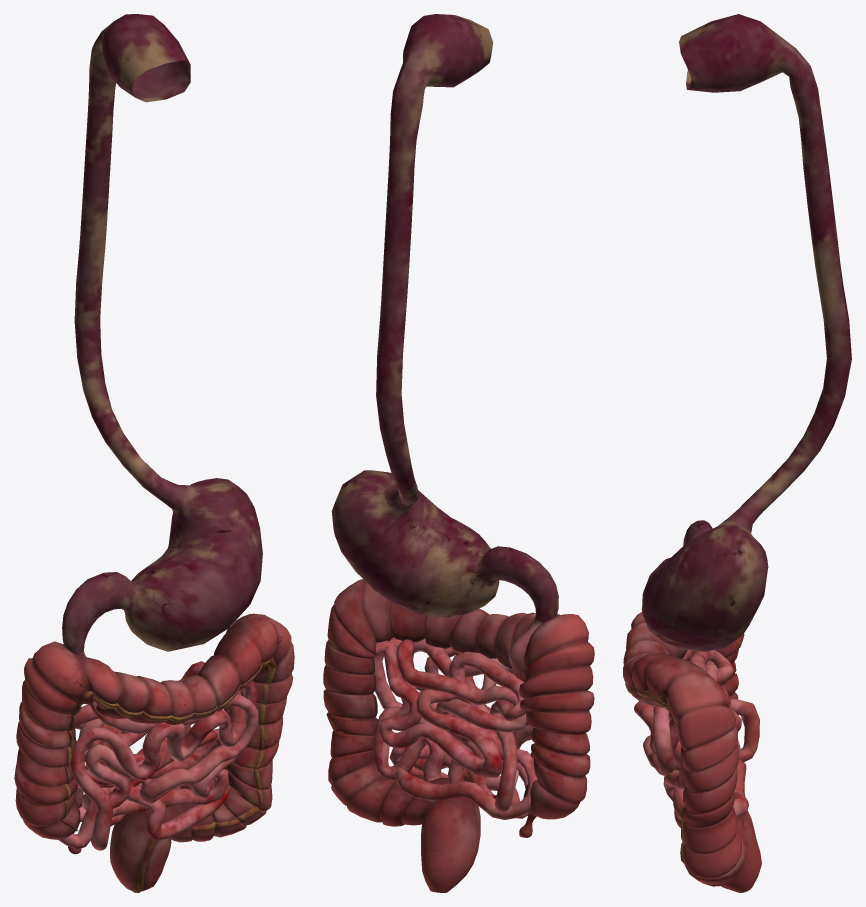
Rendered from stomach.glb.
3 views of the same model, side by side, from view 1: azimuth 30°, elevation 25°; view 2: azimuth 150°, elevation 25°; view 3: azimuth 270°, elevation 25° (orthographic).
Parts seen in each view (by area): view 1: Division_1_stomach_0; view 2: Division_1_stomach_0; view 3: Division_1_stomach_0.
Boxes of the visible parts, x1=… form: Division_1_stomach_0: x1=14, y1=14, x2=294, y2=892; Division_1_stomach_0: x1=323, y1=14, x2=594, y2=892; Division_1_stomach_0: x1=623, y1=14, x2=851, y2=892.
Size of the model in its own units: 0.3487 by 1.1 by 0.2608.
Materials: 1 (1 with a texture image).
